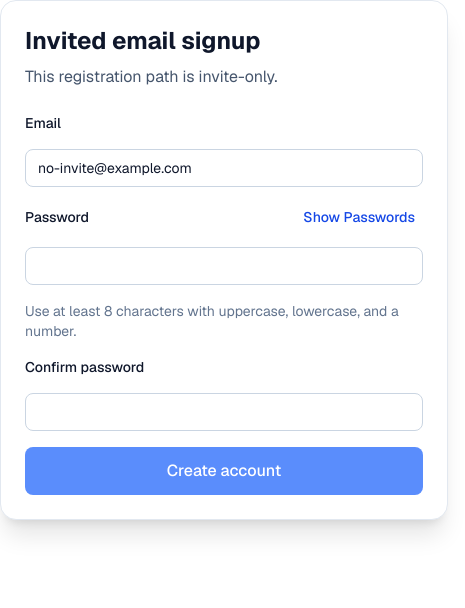
Test case: InviteEmailSignupForm › shows invite-required error for uninvited email
This screenshot has width=465, height=608.
Type "Secret123" into the password field labelled "Password".
click(224, 266); type("Secret123")  # box [25,247,423,285]
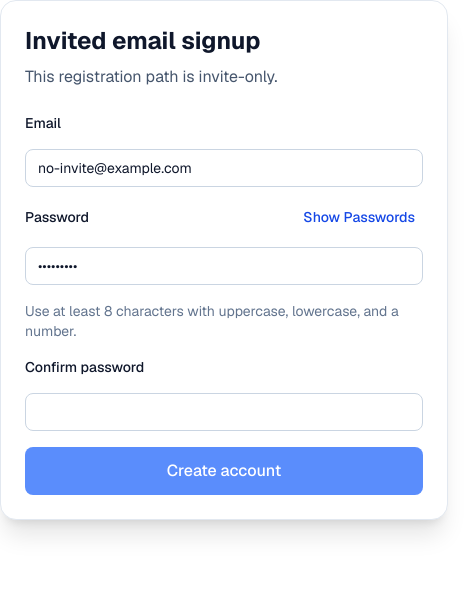
Type "Secret123" into the password field labelled "Confirm password".
click(224, 412); type("Secret123")  # box [25,393,423,431]
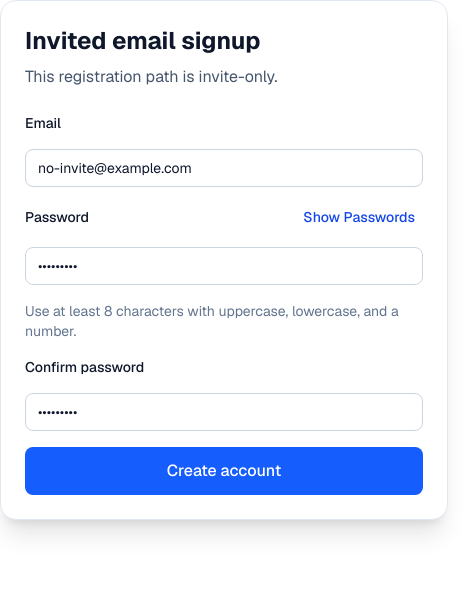
Click the button "Create account".
click(224, 471)  # box [25,447,423,495]
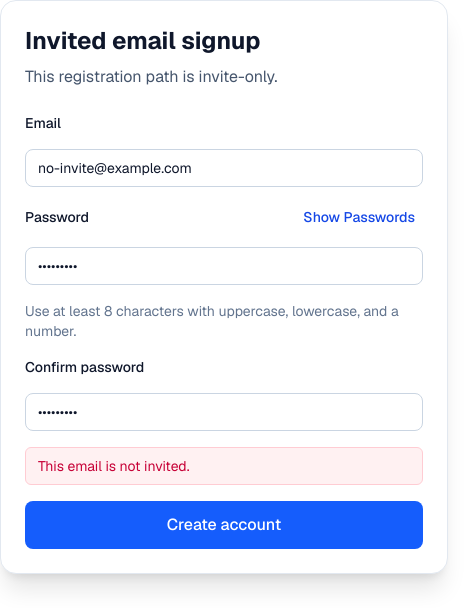
Expected: the text "This email is not invited." is shown, [25,447,423,485]
